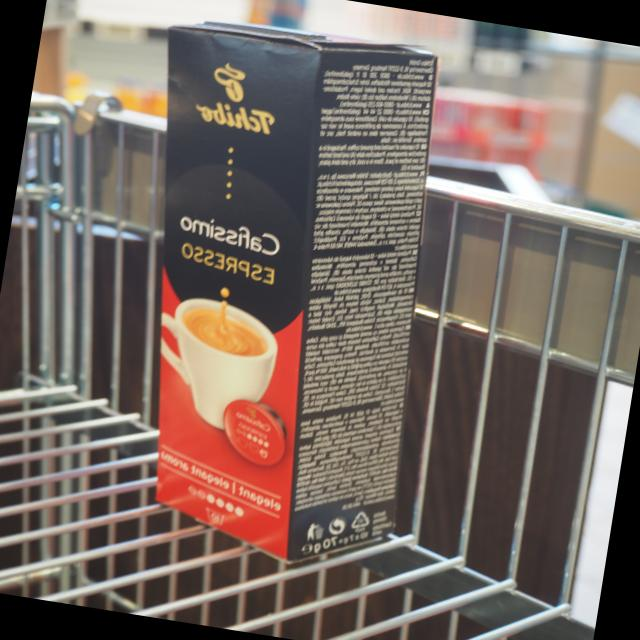Simo Es Elegant: (144, 16, 341, 577)
